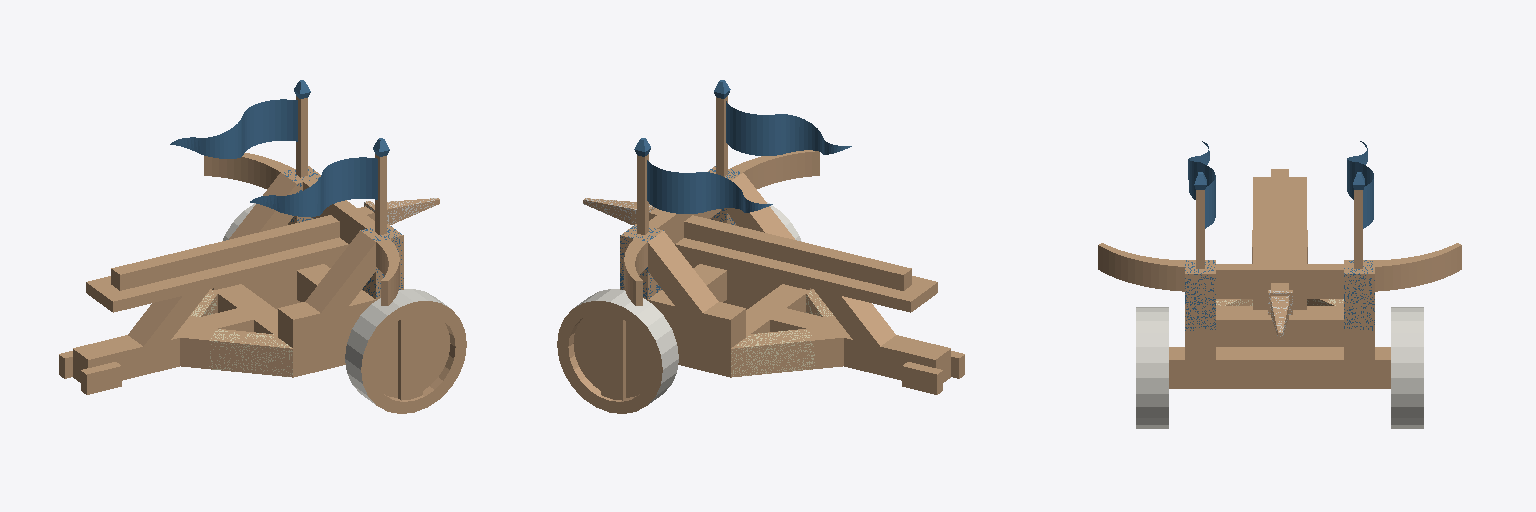
File: siegeBallista.obj
The picture shows the model from 3 angles: view 1: azimuth 30°, elevation 25°; view 2: azimuth 150°, elevation 25°; view 3: azimuth 270°, elevation 25°; orthographic projection.
Visible parts, largest first — view 1: body 5, wheelFrontRight 10, arrow 2, flag 21, flag 20; view 2: body 5, wheelFrontLeft 10, arrow 2, flag 21, flag 20; view 3: body 5, wheelFrontLeft 10, wheelFrontRight 10, arrow 2, flag 20, flag 21.
Boxes of the visible parts, box(x1,y1,x2,y2) form: body 5: box(59, 153, 403, 394); wheelFrontRight 10: box(345, 289, 466, 413); arrow 2: box(111, 198, 439, 290); flag 21: box(170, 80, 310, 177); flag 20: box(250, 138, 389, 234); body 5: box(620, 150, 964, 394); wheelFrontLeft 10: box(557, 289, 678, 413); arrow 2: box(583, 198, 911, 290); flag 21: box(634, 138, 772, 234); flag 20: box(714, 80, 851, 176); body 5: box(1098, 177, 1461, 388); wheelFrontLeft 10: box(1391, 307, 1423, 428); wheelFrontRight 10: box(1136, 307, 1168, 428); arrow 2: box(1268, 169, 1292, 336); flag 20: box(1188, 141, 1215, 268); flag 21: box(1347, 141, 1373, 268).
Size of the model in its own units: 13.96 by 9.1 by 11.98.